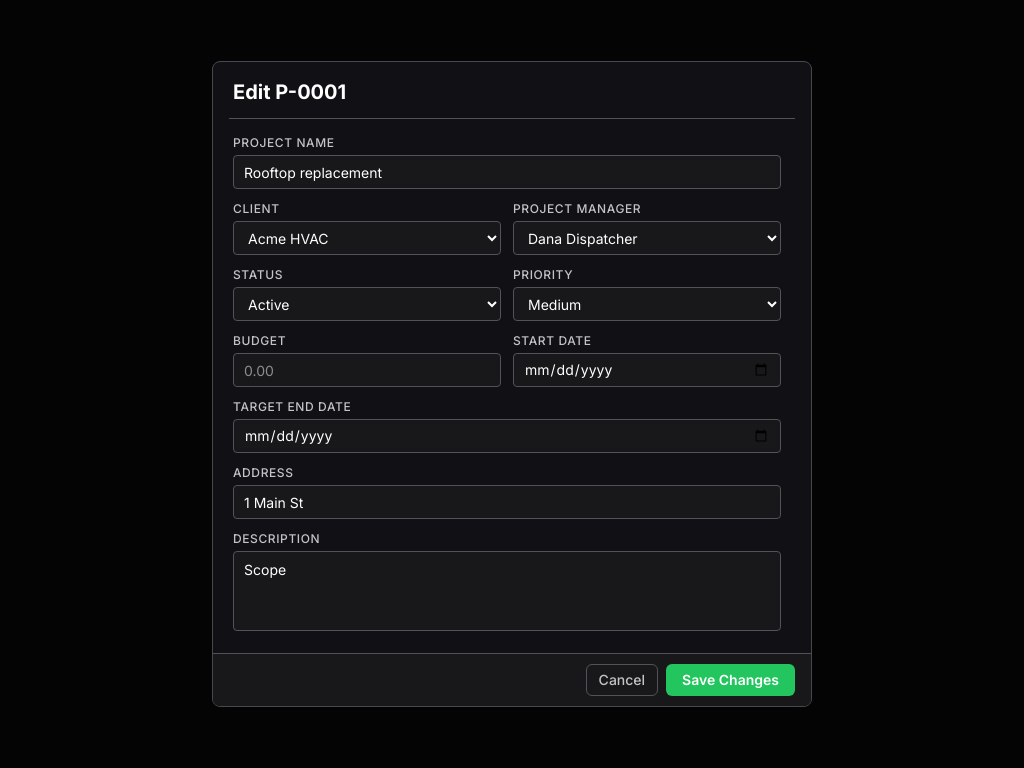
EditProjectModal — client-side validation › surfaces the server error returned by updateProject
Click the button "Save Changes" at (731, 680), box [666,664,795,696]
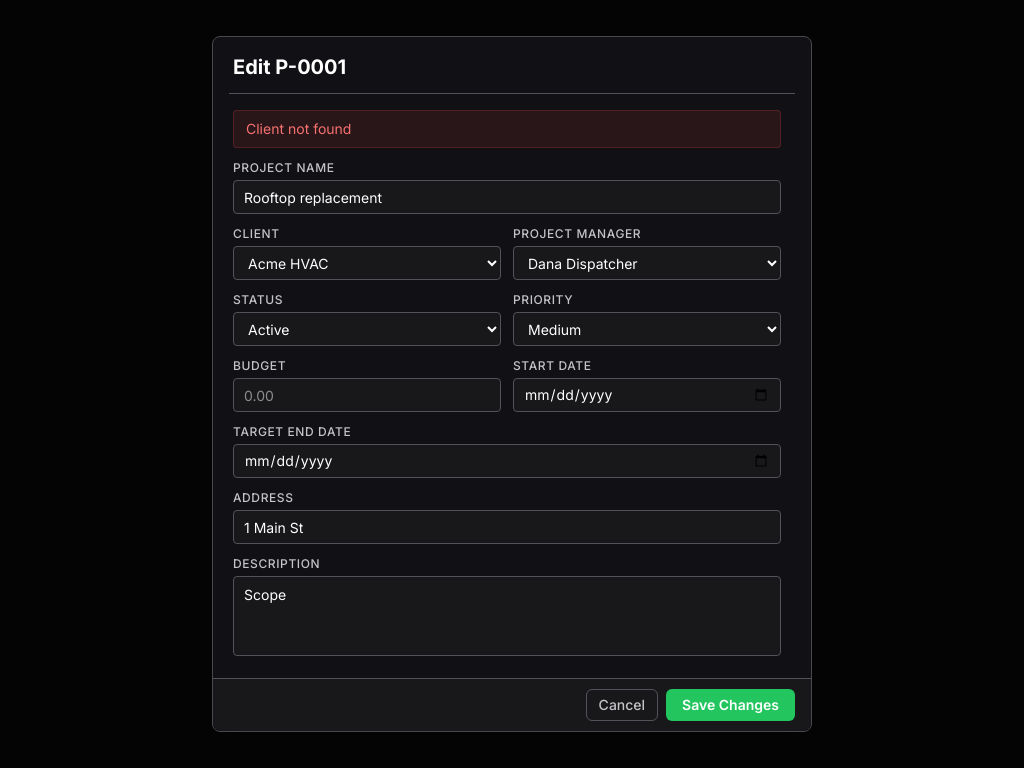
Expected: the text "Client not found" is shown, [233,110,781,148]
